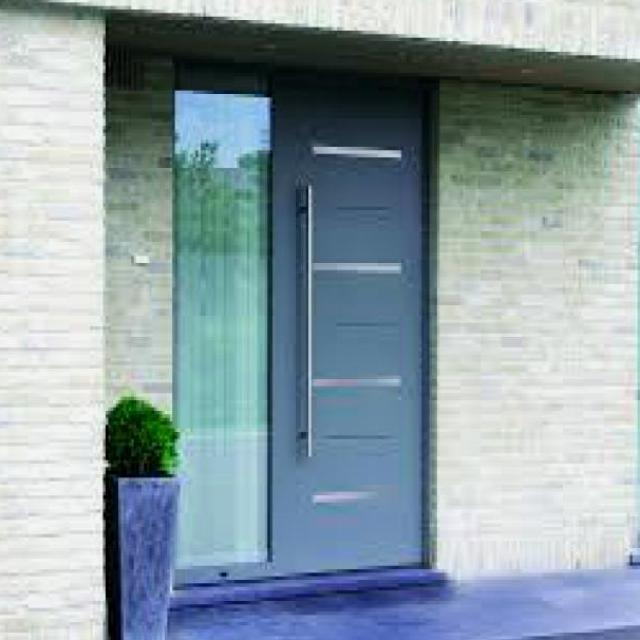door: (267, 85, 427, 572)
